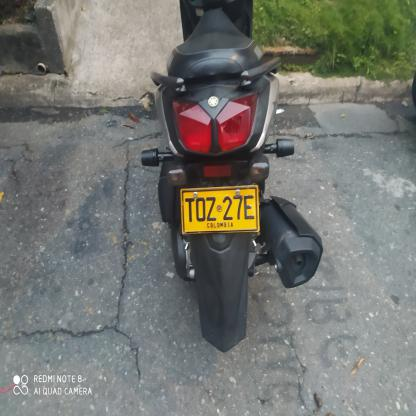placa: (176, 183, 264, 237)
